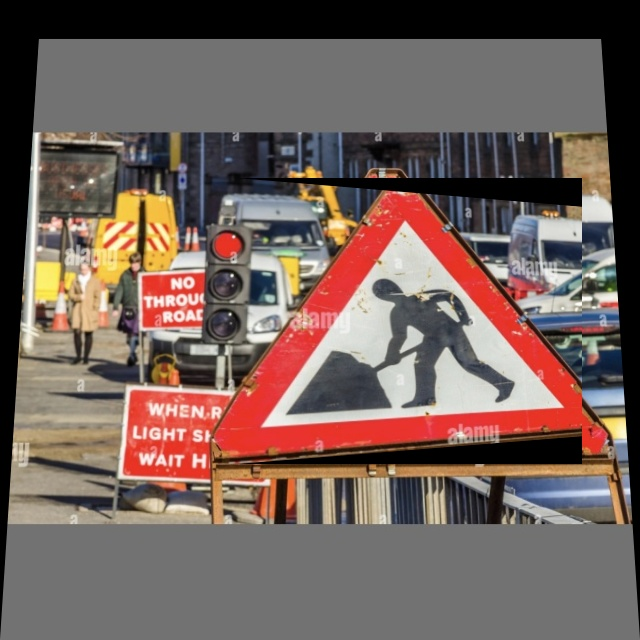Men_at_Work: (236, 178, 582, 464)
